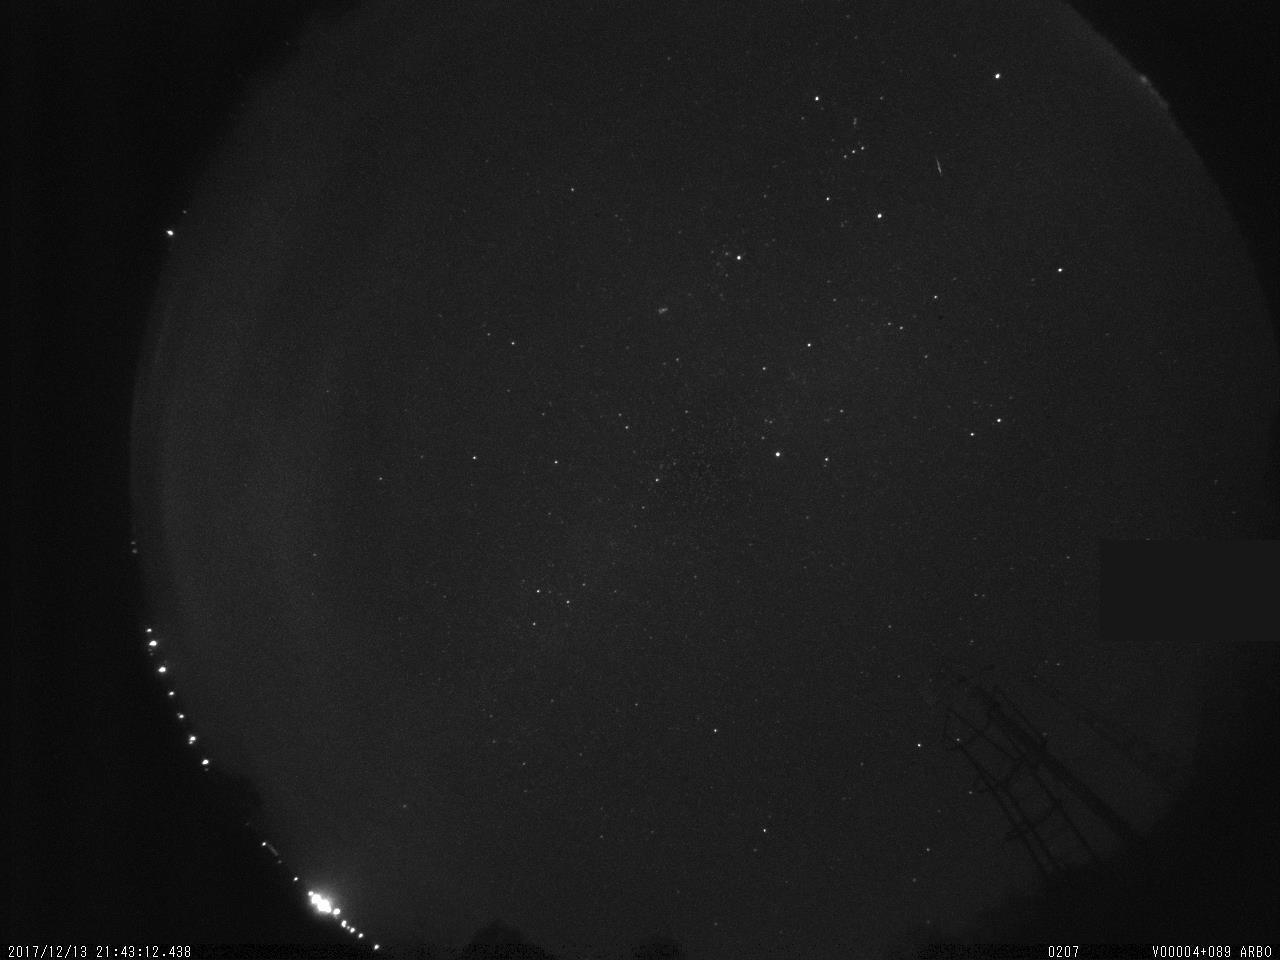Meteor: (930, 148, 953, 189)
